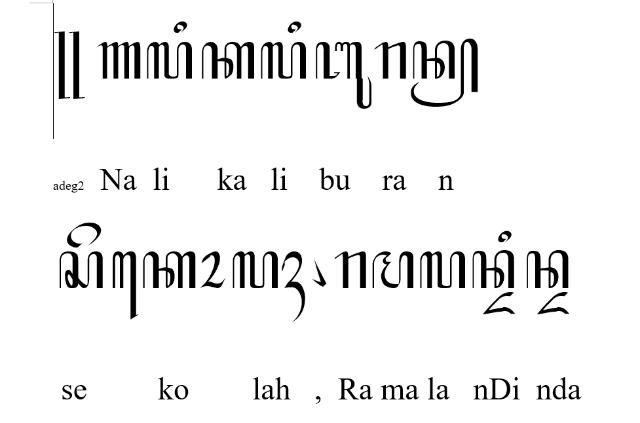-n: (410, 37, 478, 106)
N: (98, 42, 140, 79)
_d: (483, 292, 515, 314), (537, 292, 569, 314)
_h1: (281, 252, 305, 322)
adeg2: (54, 31, 85, 99)
bu: (315, 41, 371, 109)
e: (67, 222, 101, 248)
e1: (112, 250, 138, 319)
i: (287, 21, 301, 33), (498, 231, 512, 243), (174, 21, 186, 33)
k: (201, 41, 255, 79), (142, 251, 195, 289)
kom: (311, 257, 327, 287)
l: (260, 41, 306, 79), (146, 42, 192, 79), (420, 251, 464, 289), (232, 252, 278, 288)
m: (372, 251, 413, 289)
n: (526, 251, 570, 289), (472, 250, 514, 288)
o: (198, 252, 226, 288)
r: (374, 42, 406, 80), (335, 251, 367, 289)
s: (59, 251, 103, 289)
